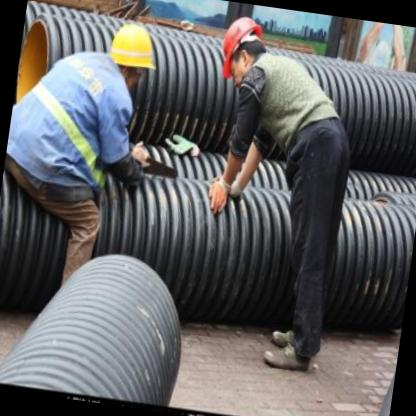helmet: (97, 16, 165, 102), (212, 10, 276, 88)
